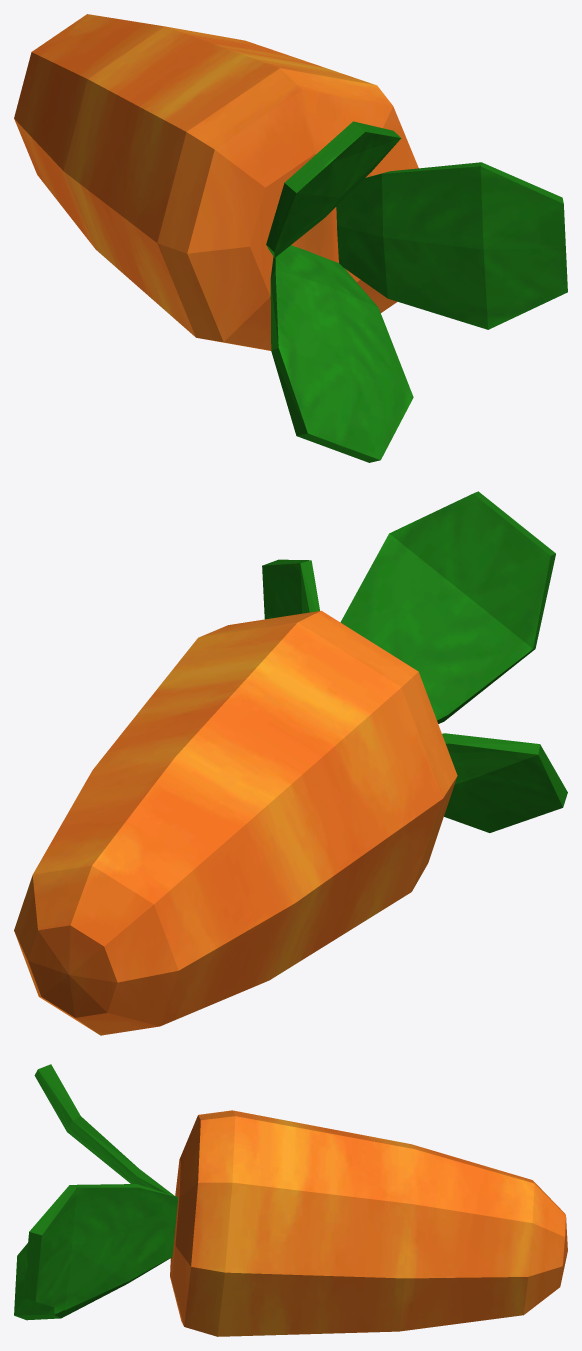
File: tx_shucai_trace4.obj
3 views of the same model, one above another, from view 1: azimuth 30°, elevation 25°; view 2: azimuth 150°, elevation 25°; view 3: azimuth 270°, elevation 25° (orthographic). The views are drawn at different scales.
Visible parts, largest first — view 1: Object02; view 2: Object02; view 3: Object02.
Part boxes in pixels (box(x1,y1,x2,y2)): Object02: box(14, 14, 567, 462); Object02: box(14, 491, 567, 1035); Object02: box(14, 1064, 567, 1336).
Bounding box in the file's own units: 16.57 × 18.17 × 35.63.
1 material, 1 textured.
